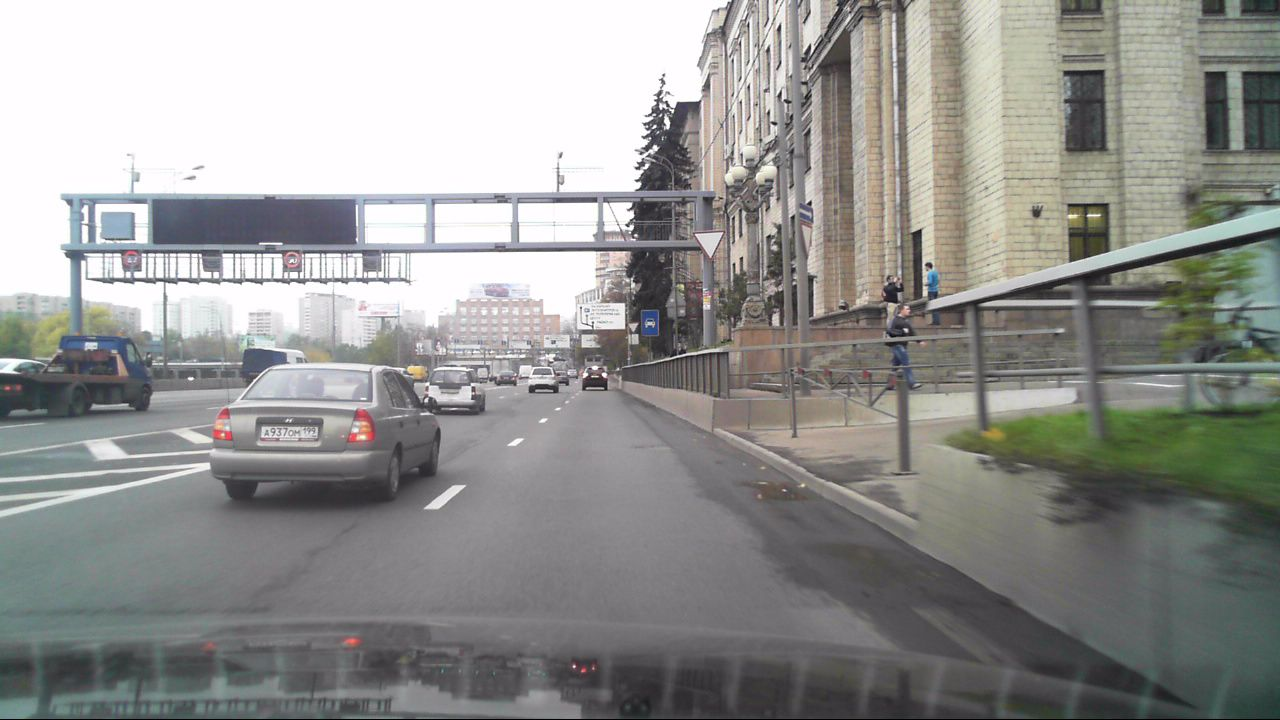One-Way Traffic: (798, 202, 814, 223)
